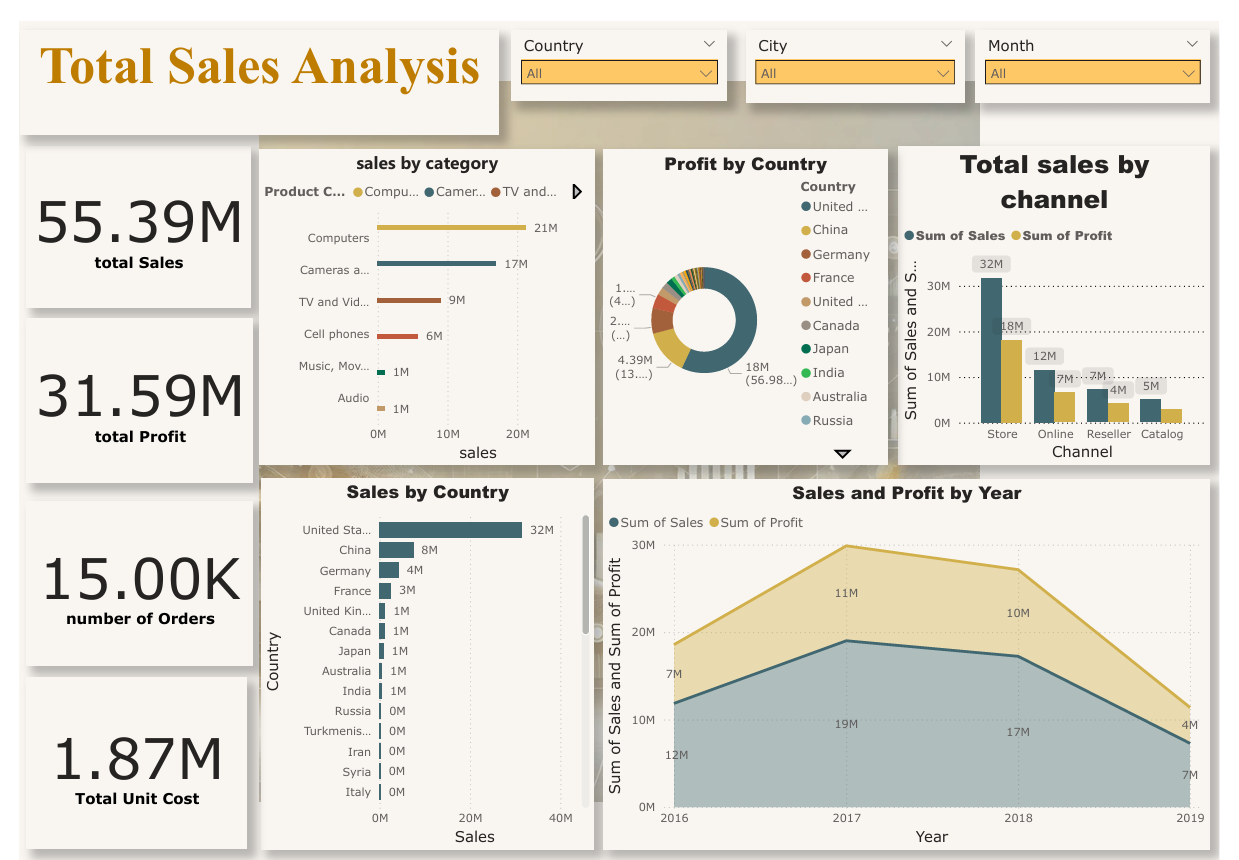

This screenshot's page, from the dashboard's own definition file:
{"tool":"powerbi","page":{"name":"Page 1","canvas":[1280,900],"ordinal":0},"visuals":[{"type":"card","fields":{"Values":["Sum(Data1.Sales)"]},"box":[8.3,133.3,238.3,171.7],"z":0},{"type":"card","fields":{"Values":["CountNonNull(Data1.Order ID)"]},"box":[8.3,511.7,241.7,175],"z":1000},{"type":"clusteredColumnChart","title":"Total sales by channel","fields":{"Category":["Data1.Channel"],"Y":["Sum(Data1.Sales)","Sum(Data1.Profit)"]},"box":[938.3,133.3,331.7,340],"z":2000},{"type":"textbox","box":[1.2,10,510,110.7],"z":3000},{"type":"card","fields":{"Values":["Sum(Data1.Profit)"]},"box":[8.3,316.7,241.7,175],"z":4000},{"type":"clusteredBarChart","title":"sales by category","fields":{"Category":["Data1.Product Category"],"Y":["Sum(Data1.Sales)"],"Series":["Data1.Product Category"]},"box":[256.1,136.5,357.4,337.4],"z":5000},{"type":"clusteredBarChart","fields":{"Category":["Data1.Country"],"Y":["Sum(Data1.Sales)"]},"box":[258.3,486.7,355,396.7],"z":6000},{"type":"slicer","fields":{"Values":["Data1.Country"]},"box":[525,10,230,75],"z":7000},{"type":"slicer","fields":{"Values":["Data1.City"]},"box":[775,10,233.3,76.7],"z":8000},{"type":"slicer","fields":{"Values":["Data1.Order Date.Variation.Date Hierarchy.Month"]},"box":[1020,10,250,76.7],"z":9000},{"type":"donutChart","title":"Profit by Country","fields":{"Category":["Data1.Country"],"Y":["Sum(Data1.Profit)"]},"box":[622.7,136.5,303.7,337.4],"z":10000},{"type":"stackedAreaChart","title":" Sales and  Profit by Year","fields":{"Category":["Data1.Order Date.Variation.Date Hierarchy.Year"],"Y":["Sum(Data1.Sales)","Sum(Data1.Profit)"]},"box":[622.7,487.7,647.2,395.7],"z":11000},{"type":"card","fields":{"Values":["Sum(Data1.Unit Cost)"]},"box":[8.3,700,235,183.3],"z":12000}]}

Visuals, with their boxes in screenshot pixels (x1, y1, x2, y2), scaled from the page's 1280x900 canvas onto the 1239x860 screenshot:
card - Sum(Data1.Sales): 8,127,239,291
card - CountNonNull(Data1.Order ID): 8,489,242,656
"Total sales by channel" clusteredColumnChart: 908,127,1229,452
textbox: 1,10,495,115
card - Sum(Data1.Profit): 8,303,242,470
"sales by category" clusteredBarChart: 248,130,594,453
clusteredBarChart - Data1.Country x Sum(Data1.Sales): 250,465,594,844
slicer - Data1.Country: 508,10,731,81
slicer - Data1.City: 750,10,976,83
slicer - Data1.Order Date.Variation.Date Hierarchy.Month: 987,10,1229,83
"Profit by Country" donutChart: 603,130,897,453
" Sales and  Profit by Year" stackedAreaChart: 603,466,1229,844
card - Sum(Data1.Unit Cost): 8,669,236,844
